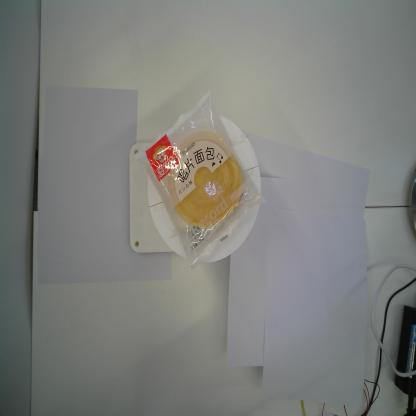Dessert: (133, 89, 267, 273)
